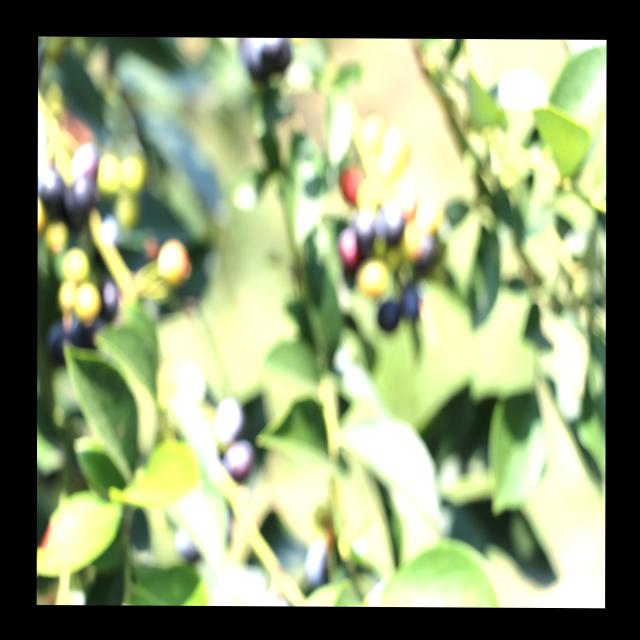blueberry: (225, 440, 258, 480), (378, 205, 407, 243), (355, 212, 373, 254)
blueberry-unripe: (154, 233, 194, 290), (72, 280, 100, 326), (360, 259, 386, 299), (64, 246, 90, 285)
